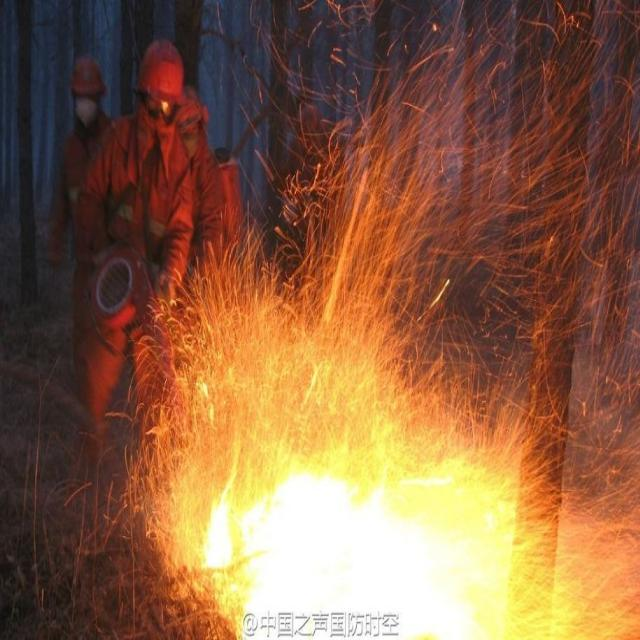Fire: (170, 273, 640, 640)
